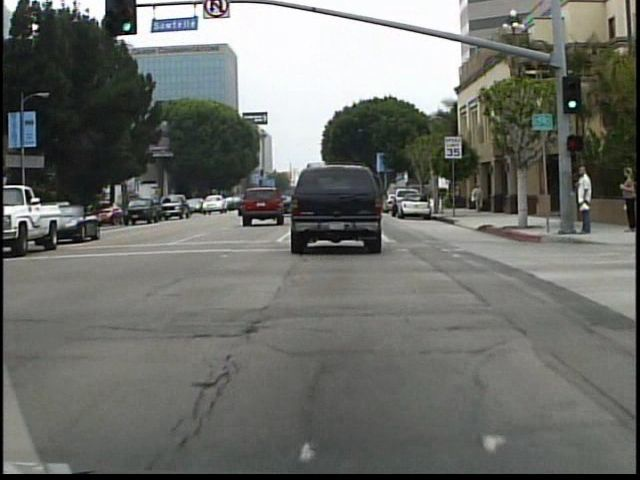person: (571, 159, 594, 240), (617, 162, 633, 234), (472, 182, 489, 219), (428, 185, 442, 216)
